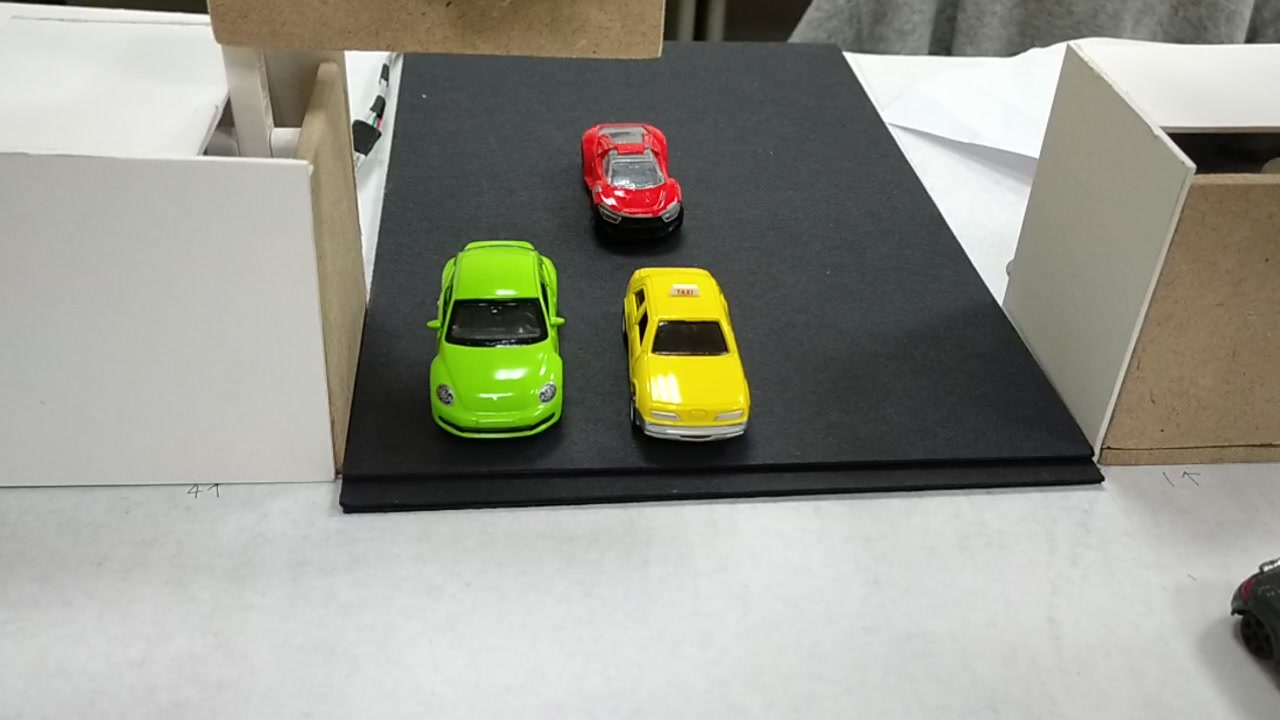car: (431, 248, 567, 433), (620, 271, 751, 443), (581, 125, 685, 231)
